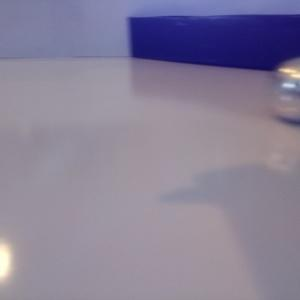zone: (128, 15, 300, 72)
